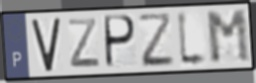L: (176, 8, 211, 69)
M: (204, 8, 253, 66)
P: (104, 14, 138, 70)
V: (30, 15, 62, 74)
Z: (136, 10, 177, 69), (66, 16, 102, 69)
